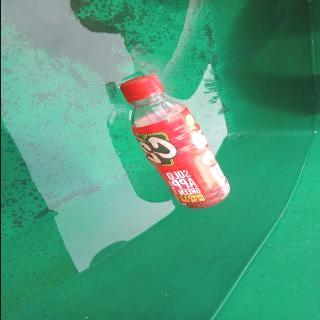bottle: (118, 74, 231, 210)
